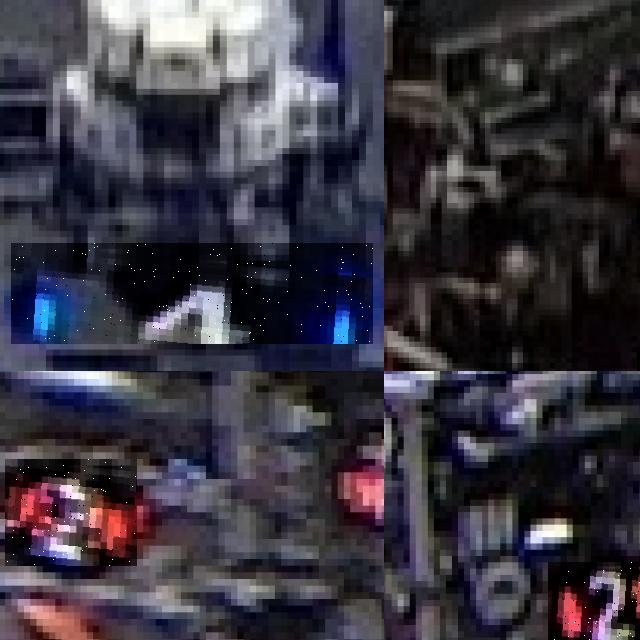B4: (11, 243, 373, 344)
R2: (5, 459, 137, 566), (548, 562, 640, 640)
